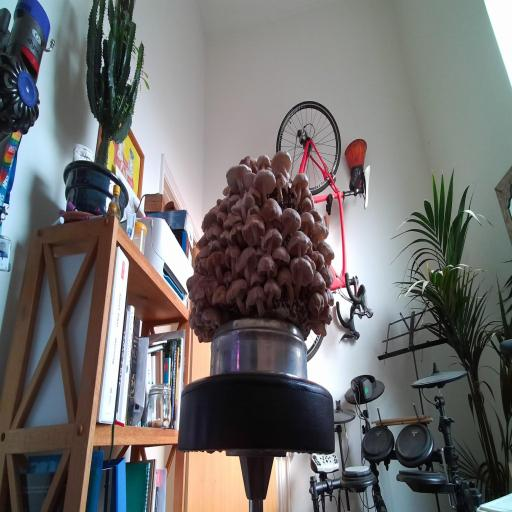Shiitake Mushroom: (246, 158, 285, 205), (235, 206, 272, 255), (225, 182, 262, 229), (254, 190, 291, 237), (230, 237, 264, 286), (284, 247, 318, 295), (251, 221, 291, 259), (271, 261, 305, 305), (221, 152, 253, 198), (279, 225, 319, 261), (283, 165, 315, 210), (301, 212, 337, 252), (202, 243, 231, 286), (275, 200, 305, 241), (224, 277, 250, 319), (186, 274, 221, 305), (258, 271, 286, 309), (302, 286, 332, 321), (194, 202, 227, 233), (312, 233, 340, 268), (266, 169, 294, 204), (220, 239, 243, 280), (269, 145, 293, 181), (245, 282, 267, 317), (256, 249, 280, 281), (307, 267, 330, 300), (306, 243, 330, 274), (314, 302, 339, 331), (181, 266, 206, 293), (219, 209, 246, 233), (244, 181, 267, 208), (236, 151, 263, 173), (317, 262, 338, 290), (200, 305, 222, 331), (229, 220, 249, 248), (240, 166, 260, 193), (202, 221, 227, 242), (223, 188, 243, 213), (301, 250, 320, 276), (305, 206, 328, 226), (272, 244, 291, 268), (193, 294, 211, 318), (219, 266, 237, 289), (217, 194, 234, 217), (192, 234, 212, 253), (300, 212, 315, 236), (309, 320, 330, 336), (212, 284, 227, 306), (185, 303, 201, 323), (187, 312, 206, 328), (197, 257, 210, 280), (244, 203, 263, 218), (207, 238, 225, 253), (256, 152, 271, 170), (194, 325, 214, 338), (250, 269, 265, 286), (196, 246, 213, 261), (300, 185, 314, 202), (300, 195, 313, 213), (219, 228, 231, 247), (216, 209, 228, 227), (326, 287, 336, 308), (220, 182, 233, 198), (321, 289, 330, 307)
